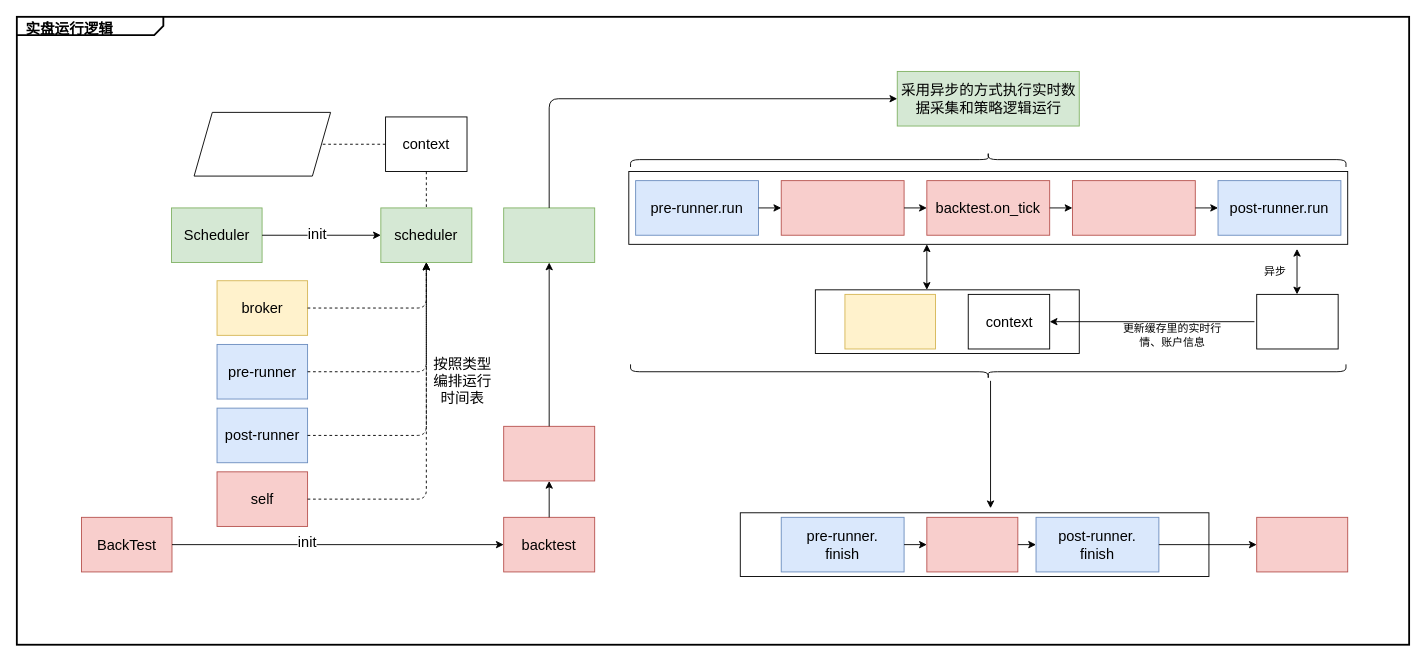
Some shapes in this 1425 by 661 pixel diagram are drawn without their labels. The shapes that lost their labels are listed below. From the top down, each one's box as (x1, y1, x2, y2) in pixels, then its label:
(193, 111, 331, 176): 数据，当前时间，交易日历，broker，backtest......
(780, 180, 904, 235): backtest. before_on_tick
(1072, 180, 1195, 235): backtest. after_on_tick
(503, 207, 595, 263): scheduler.run
(844, 293, 935, 349): broker.sell broker.buy等
(1256, 293, 1338, 349): 实时数据采集
(503, 425, 595, 481): backtest.start
(926, 516, 1018, 572): backtest. finish
(1256, 516, 1348, 572): exit()
